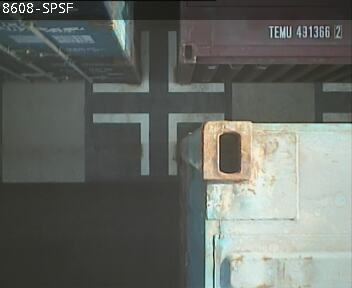groundmarker_1: (91, 111, 225, 175), (89, 28, 223, 92)
